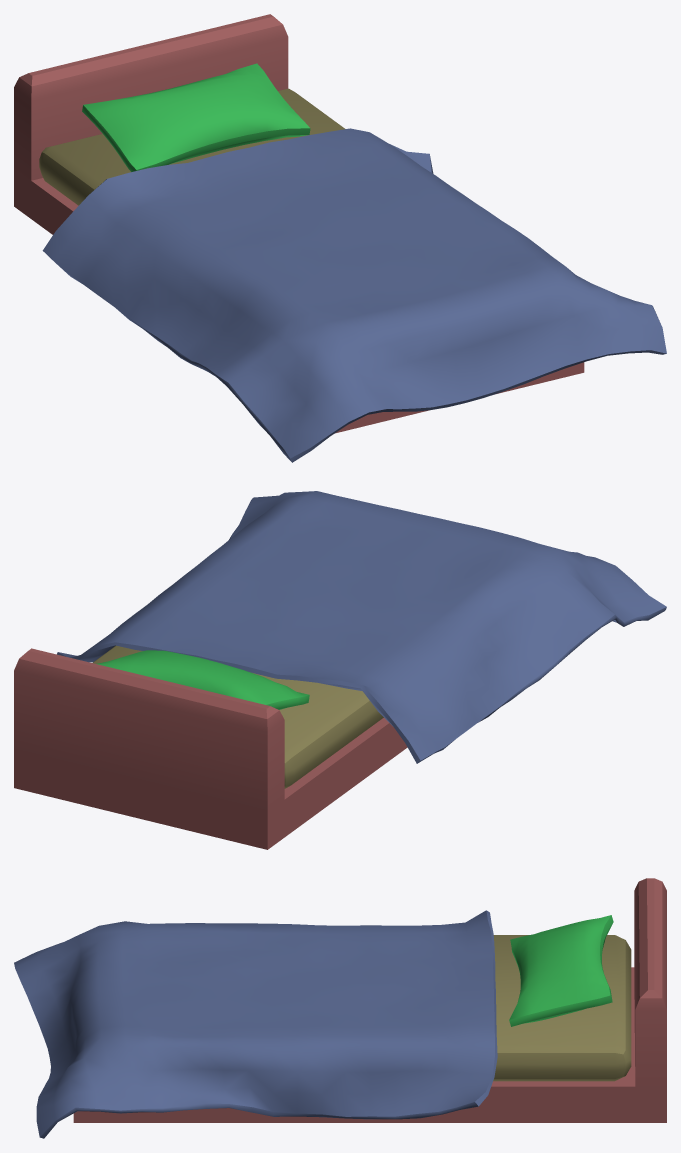
The model's file is OA_Bed.FBX.
The picture shows the model from 3 angles, top to bottom: view 1: azimuth 30°, elevation 25°; view 2: azimuth 150°, elevation 25°; view 3: azimuth 270°, elevation 25°; orthographic projection. The views are drawn at different scales.
Visible parts, largest first — view 1: Duvet, Frame, Pillow, Mattress; view 2: Duvet, Frame, Mattress, Pillow; view 3: Duvet, Frame, Mattress, Pillow.
Part boxes in pixels (left/top/right/bottom): Duvet: left=42, top=128, right=666, bottom=462; Frame: left=14, top=14, right=584, bottom=433; Pillow: left=82, top=63, right=310, bottom=171; Mattress: left=39, top=88, right=345, bottom=205; Duvet: left=57, top=491, right=666, bottom=763; Frame: left=14, top=648, right=407, bottom=849; Mattress: left=93, top=645, right=383, bottom=788; Pillow: left=96, top=650, right=309, bottom=709; Duvet: left=14, top=910, right=497, bottom=1138; Frame: left=73, top=878, right=666, bottom=1122; Mattress: left=493, top=935, right=631, bottom=1081; Pillow: left=509, top=915, right=613, bottom=1026.
Bounding box in the file's own units: 57.7 × 18.85 × 86.25.
